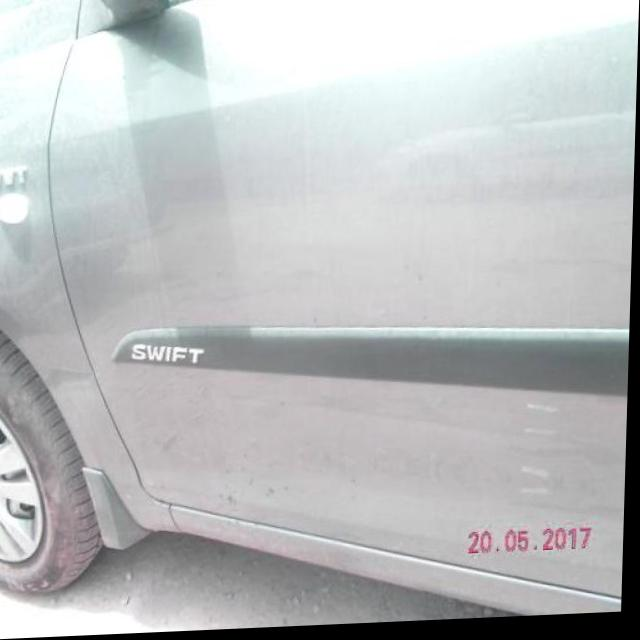Car-Damage: (519, 398, 564, 506)
